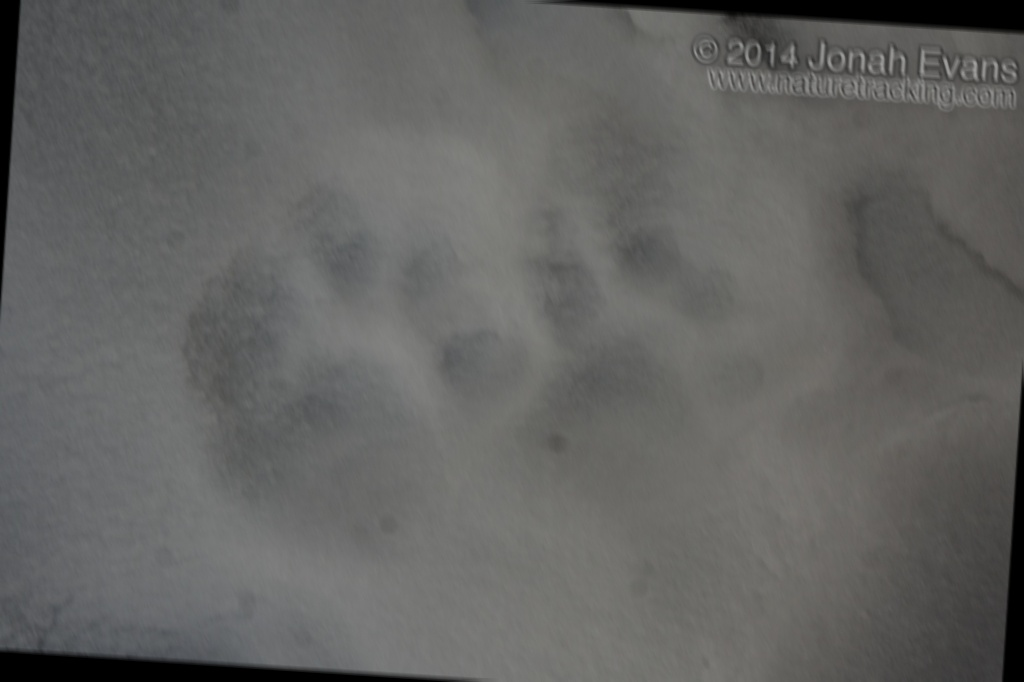lynx: (123, 180, 574, 591)
